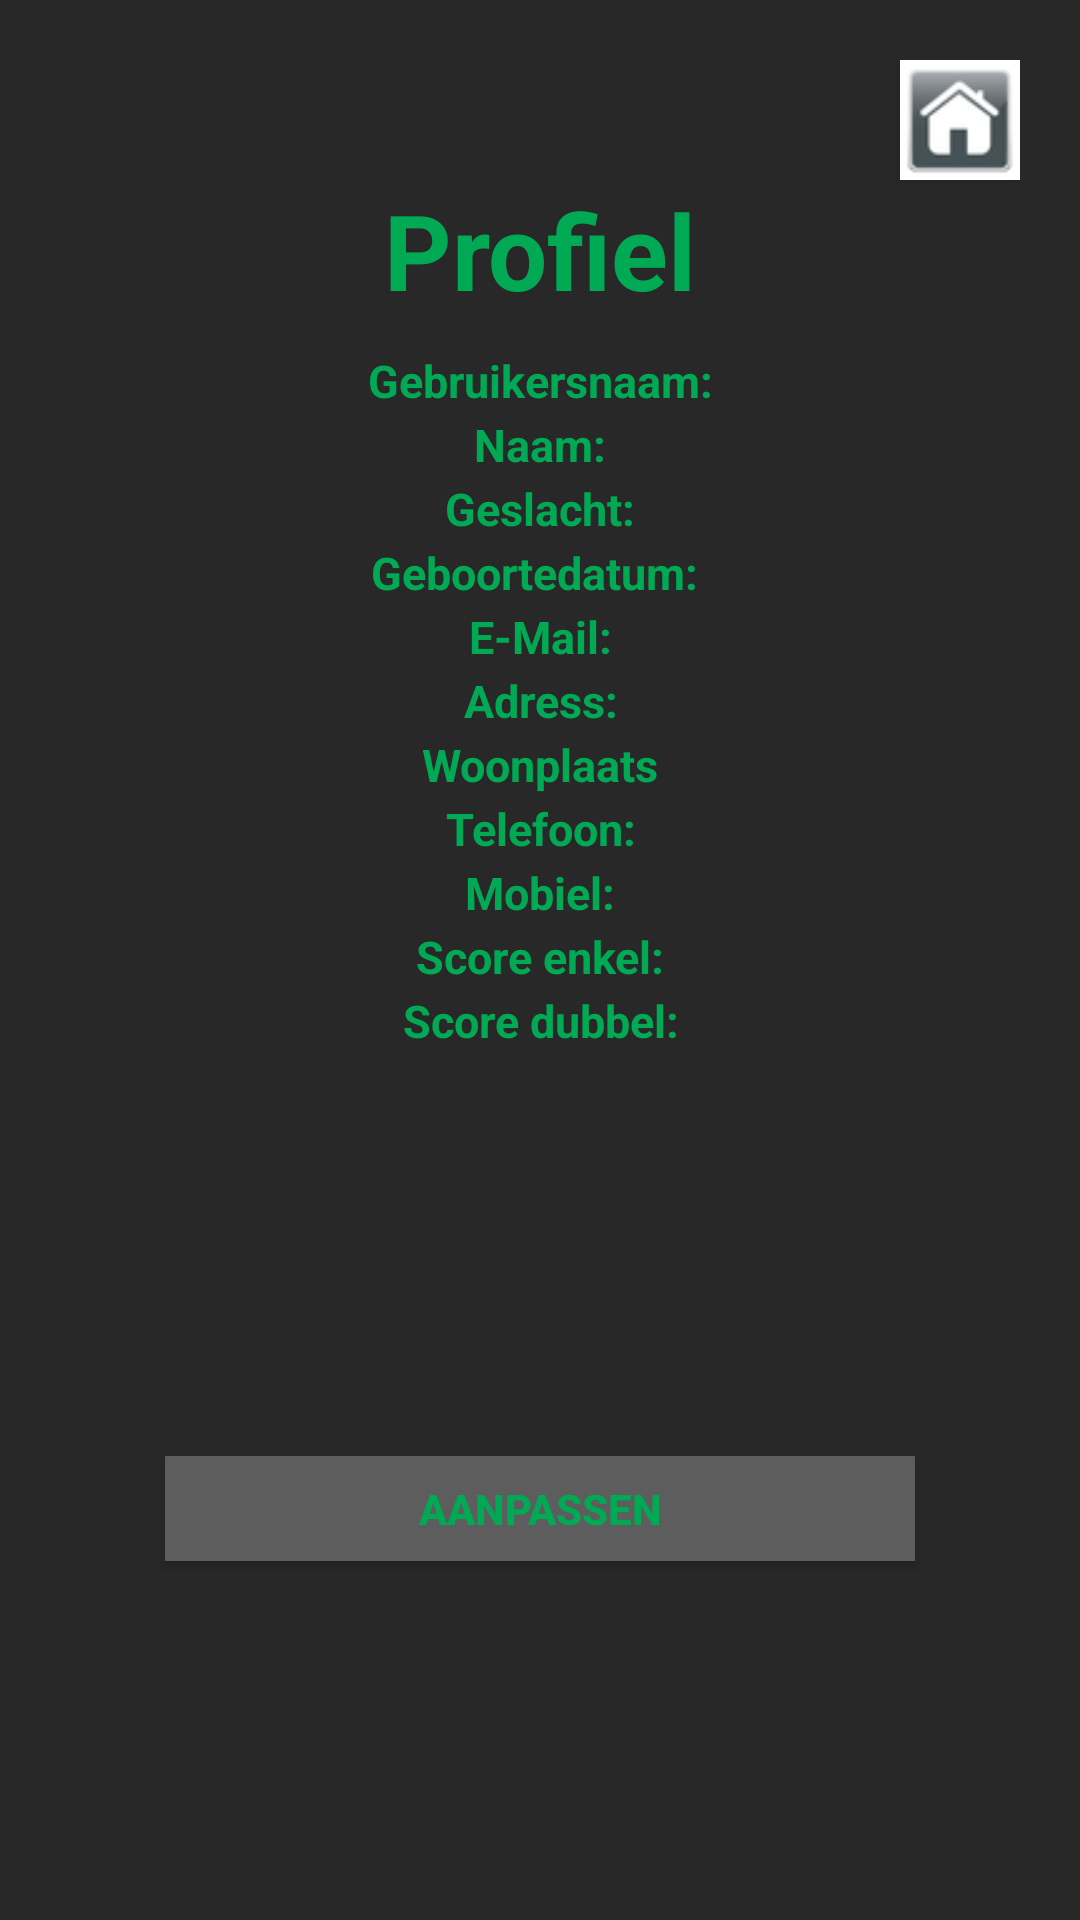

Locate icon controls on the screen. Image size 1080w x 1920h, boxes as (x1, y1, x2, y2).
home: (900, 60, 1020, 180)
